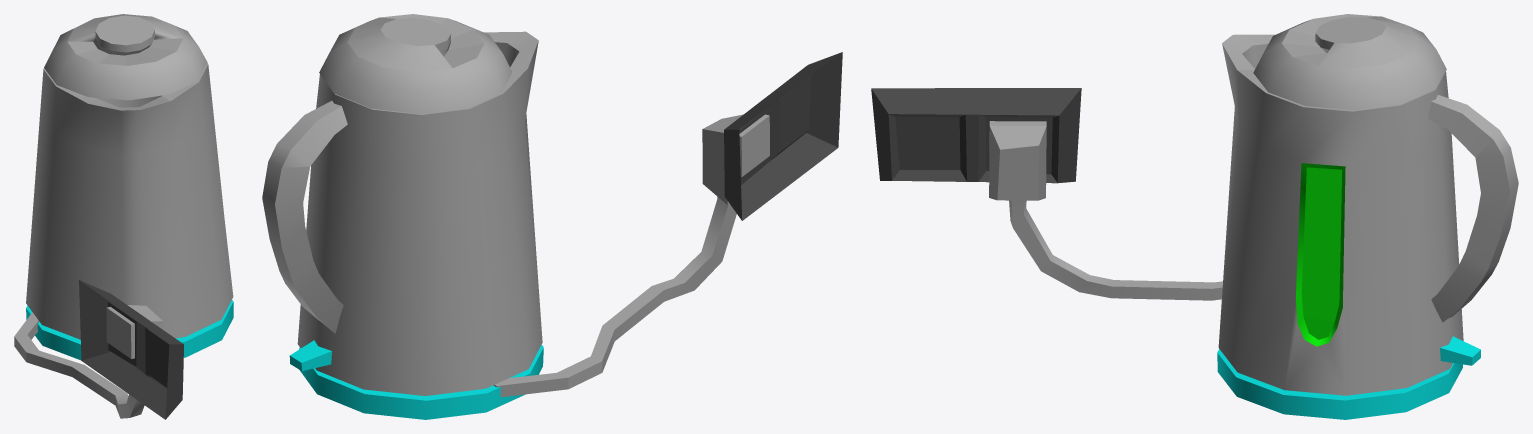
File: Kitchen_Kettle.fbx
3 views of the same model, side by side, from view 1: azimuth 30°, elevation 25°; view 2: azimuth 150°, elevation 25°; view 3: azimuth 270°, elevation 25° (orthographic). The views are drawn at different scales.
Parts seen in each view (by area): view 1: Kitchen_Kettle; view 2: Kitchen_Kettle; view 3: Kitchen_Kettle.
Part boxes in pixels (box(x1,y1,x2,y2)): Kitchen_Kettle: box(14, 14, 233, 419); Kitchen_Kettle: box(262, 14, 842, 419); Kitchen_Kettle: box(871, 14, 1518, 419).
Bounding box in the file's own units: 33.22 × 36.9 × 62.97.
